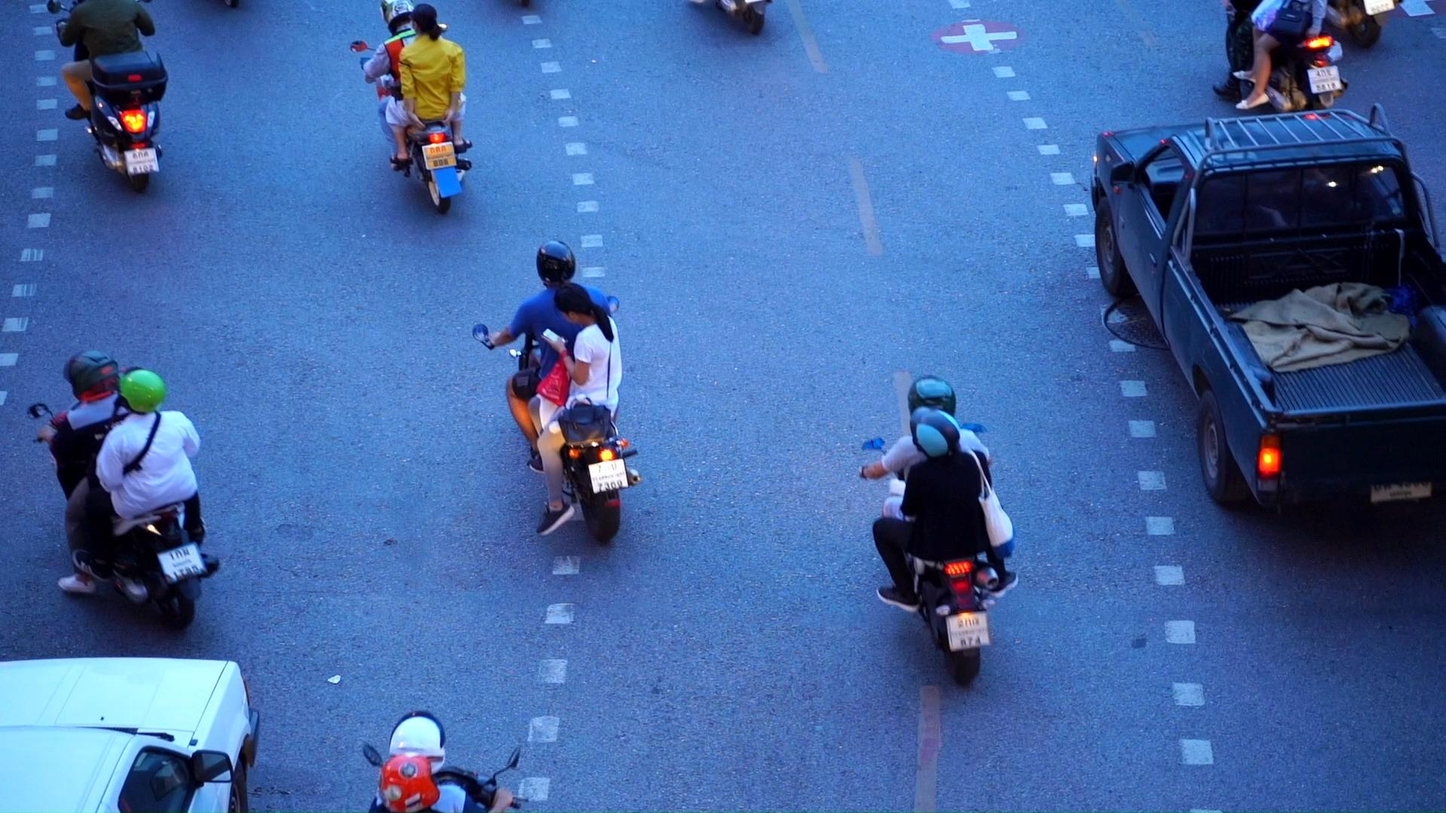driver: (27, 351, 219, 633), (857, 375, 1021, 685), (472, 240, 639, 543), (350, 0, 473, 215), (46, 0, 169, 192), (362, 710, 530, 813), (1211, 0, 1349, 114)
helmet: (388, 710, 447, 776), (378, 753, 440, 813), (63, 351, 119, 404), (111, 366, 167, 416), (910, 406, 960, 461), (908, 375, 956, 417), (537, 239, 576, 288), (379, 0, 415, 35)
no-helmet: (553, 282, 612, 327), (409, 3, 442, 41)
